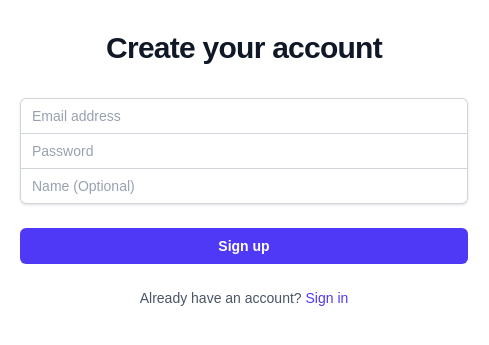
Register page › failed registration › should show error message when fetch throws
Type "alice@example.com" into the field with placeholder "Email address". click: {"x": 244, "y": 116}
box: left=20, top=98, right=468, bottom=134
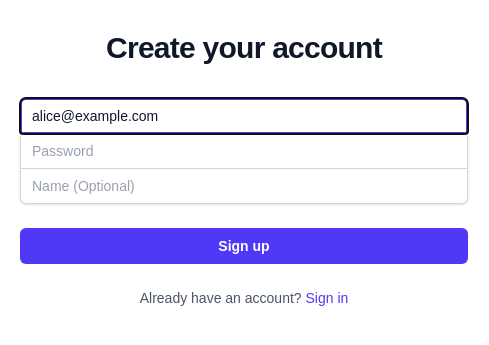
Type "password123" into the password field with placeholder "Password". click: {"x": 244, "y": 151}
box: left=20, top=133, right=468, bottom=169
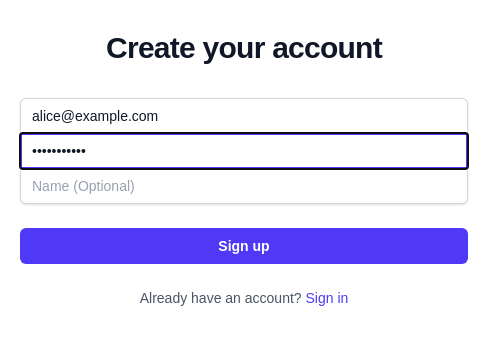
Click the button "Sign up". click: {"x": 244, "y": 246}
box: left=20, top=228, right=468, bottom=264
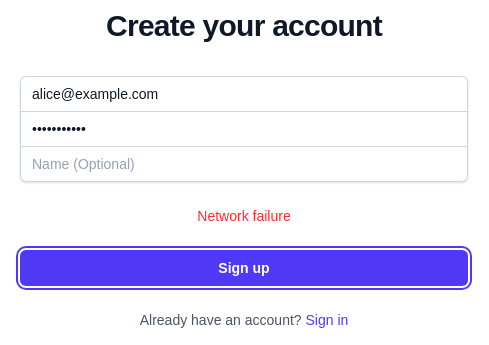
Now the text "Network failure" is shown, box left=197, top=208, right=291, bottom=224
